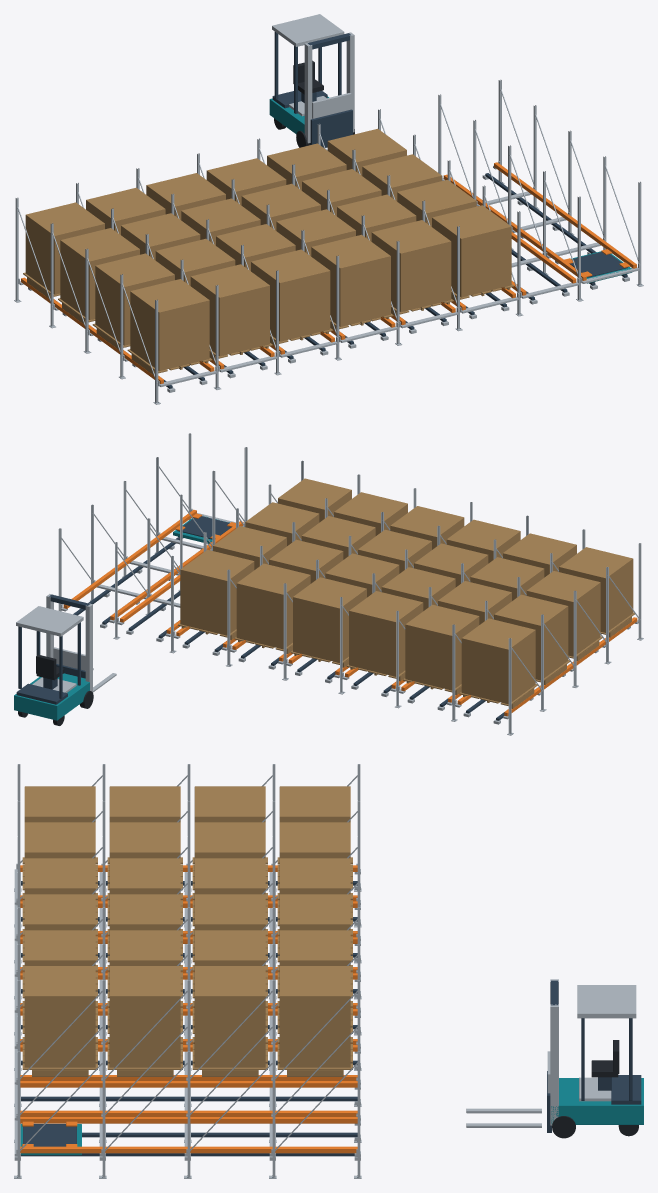
3 renders of one model, top to bottom at view 1: azimuth 30°, elevation 25°; view 2: azimuth 150°, elevation 25°; view 3: azimuth 270°, elevation 25°, orthographic. The views are drawn at different scales.
Visible parts, largest first — view 1: unit-load (×24), overhead-guard-roof, fork-carriage, classic-upper-pallet-support-0-7-1, classic-upper-pallet-support-0-7-0, shuttle-upper-deck, mast-upright-right, load-backrest, truck-chassis, classic-upper-pallet-support-0-0-0, mast-upright-left; view 2: unit-load (×24), truck-chassis, overhead-guard-roof, classic-upper-pallet-support-0-7-1, classic-upper-pallet-support-0-7-0, shuttle-upper-deck, mast-upright-right, rear-counterweight, classic-upper-pallet-support-0-0-0, classic-lower-shuttle-runner-0-7-1, load-backrest; view 3: unit-load (×24), classic-upper-pallet-support-0-7-1, truck-chassis, classic-upper-pallet-support-0-6-0, classic-upper-pallet-support-0-7-0, classic-upper-pallet-support-0-6-1, overhead-guard-roof, classic-lower-shuttle-runner-0-6-0, classic-lower-shuttle-runner-0-7-0, classic-upper-pallet-support-0-5-1, classic-lower-shuttle-runner-0-7-1, shuttle-upper-deck (+3 smaller).
Part boxes in pixels (x1,y1,x2,y2): unit-load (×24): (25,128,511,370); overhead-guard-roof: (272,14,344,46); fork-carriage: (310,109,352,147); classic-upper-pallet-support-0-7-1: (494,162,636,268); classic-upper-pallet-support-0-7-0: (443,174,586,280); shuttle-upper-deck: (570,252,627,277); mast-upright-right: (304,42,312,143); load-backrest: (312,93,351,118); truck-chassis: (269,96,328,133); classic-upper-pallet-support-0-0-0: (21,277,163,383); mast-upright-left: (346,32,354,132); unit-load (×24): (180,478,633,704); truck-chassis: (14,673,89,720); overhead-guard-roof: (16,606,83,636); classic-upper-pallet-support-0-7-1: (63,509,196,608); classic-upper-pallet-support-0-7-0: (110,521,243,620); shuttle-upper-deck: (177,516,231,539); mast-upright-right: (85,603,92,692); rear-counterweight: (16,683,67,704); classic-upper-pallet-support-0-0-0: (504,617,637,716); classic-lower-shuttle-runner-0-7-1: (73,537,183,615); load-backrest: (53,647,85,670); unit-load (×24): (24,786,350,1067); classic-upper-pallet-support-0-7-1: (20,1146,357,1153); truck-chassis: (551,1078,643,1124); classic-upper-pallet-support-0-6-0: (20,1081,357,1087); classic-upper-pallet-support-0-7-0: (20,1117,357,1123); classic-upper-pallet-support-0-6-1: (20,1110,357,1116); overhead-guard-roof: (577,985,636,1018); classic-lower-shuttle-runner-0-6-0: (21,1096,357,1101); classic-lower-shuttle-runner-0-7-0: (82,1132,357,1137); classic-upper-pallet-support-0-5-1: (20,1075,357,1080); classic-lower-shuttle-runner-0-7-1: (21,1153,354,1156); shuttle-upper-deck: (23,1124,76,1146).
Bounding box in the file's own units: 10.9 × 2.29 × 10.01.
